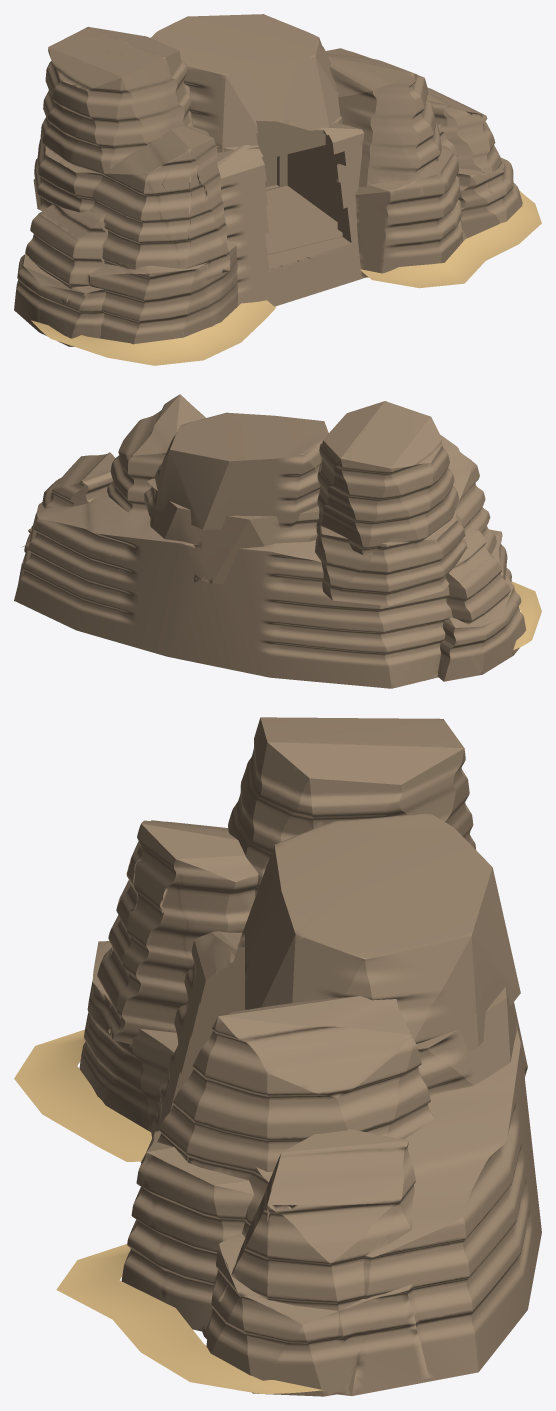
File: mountain.glb
The picture shows the model from 3 angles, top to bottom: view 1: azimuth 30°, elevation 25°; view 2: azimuth 150°, elevation 25°; view 3: azimuth 270°, elevation 25°; orthographic projection. The views are drawn at different scales.
Visible parts, largest first — view 1: mountain-sandstone-low, sand-foot--1, sand-foot-1; view 2: mountain-sandstone-low, sand-foot--1; view 3: mountain-sandstone-low, sand-foot-1, sand-foot--1.
Part boxes in pixels (<box>): mountain-sandstone-low: <box>14,14,522,346</box>; sand-foot--1: <box>31,300,275,365</box>; sand-foot-1: <box>360,190,541,288</box>; mountain-sandstone-low: <box>14,394,525,688</box>; sand-foot--1: <box>511,581,541,649</box>; mountain-sandstone-low: <box>79,717,541,1396</box>; sand-foot-1: <box>56,1244,323,1393</box>; sand-foot--1: <box>14,1029,151,1161</box>.
Size of the model in its own units: 130 by 59.6 by 75.
